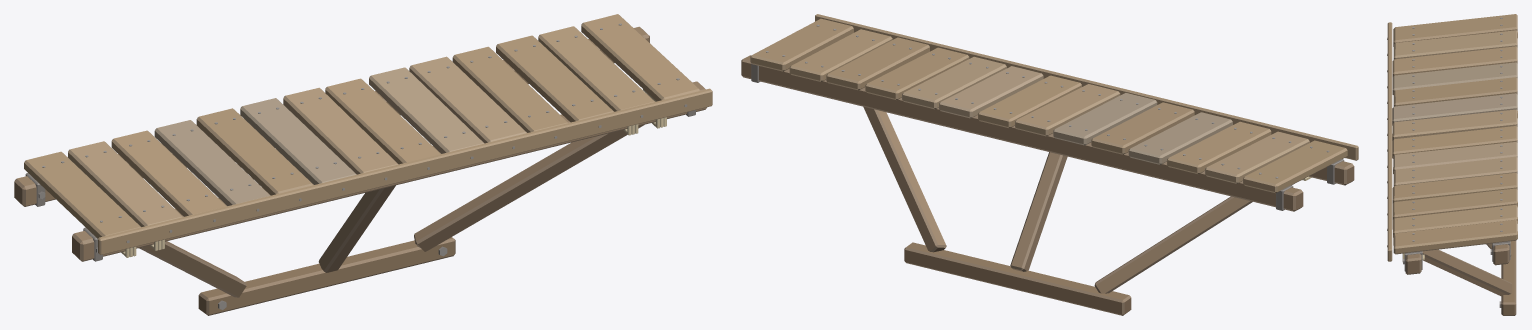
File: platform_braced_420.glb
3 renders of one model, left to right at view 1: azimuth 30°, elevation 25°; view 2: azimuth 150°, elevation 25°; view 3: azimuth 270°, elevation 25°, orthographic. The views are drawn at different scales.
Visible parts, largest first — view 1: Wood, Iron, Rope; view 2: Wood, Iron; view 3: Wood, Iron.
Part boxes in pixels (x1,y1,x2,y2): Wood: [14, 14, 712, 315]; Iron: [25, 23, 695, 309]; Rope: [121, 89, 666, 257]; Wood: [741, 14, 1358, 315]; Iron: [751, 24, 1344, 210]; Wood: [1387, 14, 1517, 315]; Iron: [1387, 17, 1510, 307].
Size of the model in its own units: 4.4 by 1.3 by 1.04.
